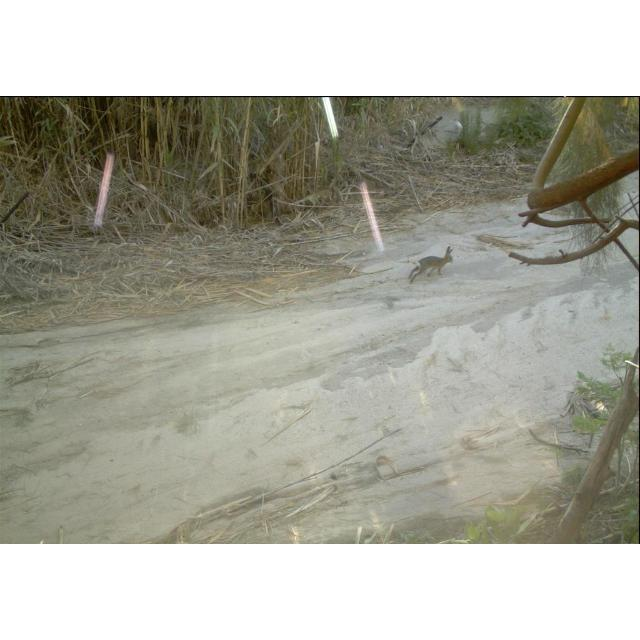animals: (406, 244, 456, 282)
